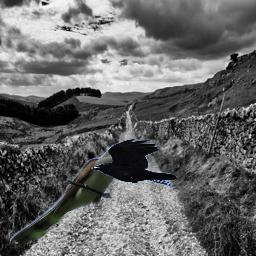Crow: (91, 139, 177, 187)
Cuckoo: (10, 144, 138, 244)
